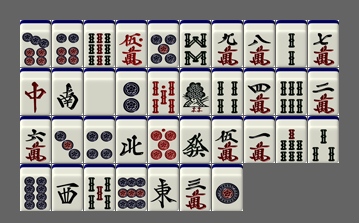0m: (116, 20, 147, 67)
0p: (148, 116, 179, 163)
0s: (148, 68, 179, 115)
1m: (244, 116, 275, 163)
1p: (212, 164, 243, 211)
1s: (180, 68, 211, 115)
1z: (148, 164, 179, 211)
2m: (308, 68, 339, 115)
2p: (116, 68, 147, 115)
2s: (276, 20, 307, 67)
2z: (52, 68, 83, 115)
3m: (180, 164, 211, 211)
3p: (52, 116, 83, 163)
3s: (308, 116, 339, 163)
3z: (52, 164, 83, 211)
4m: (244, 68, 275, 115)
4p: (84, 116, 115, 163)
4s: (212, 68, 243, 115)
4z: (116, 116, 147, 163)
5m: (212, 116, 243, 163)
5p: (148, 20, 179, 67)
5s: (84, 164, 115, 211)
5z: (84, 68, 115, 115)
6m: (20, 116, 51, 163)
6p: (52, 20, 83, 67)
6s: (276, 68, 307, 115)
6z: (180, 116, 211, 163)
7m: (308, 20, 339, 67)
7p: (20, 20, 51, 67)
7s: (276, 116, 307, 163)
7z: (20, 68, 51, 115)
8m: (244, 20, 275, 67)
8p: (20, 164, 51, 211)
8s: (180, 20, 211, 67)
9m: (212, 20, 243, 67)
9p: (116, 164, 147, 211)
9s: (84, 20, 115, 67)
